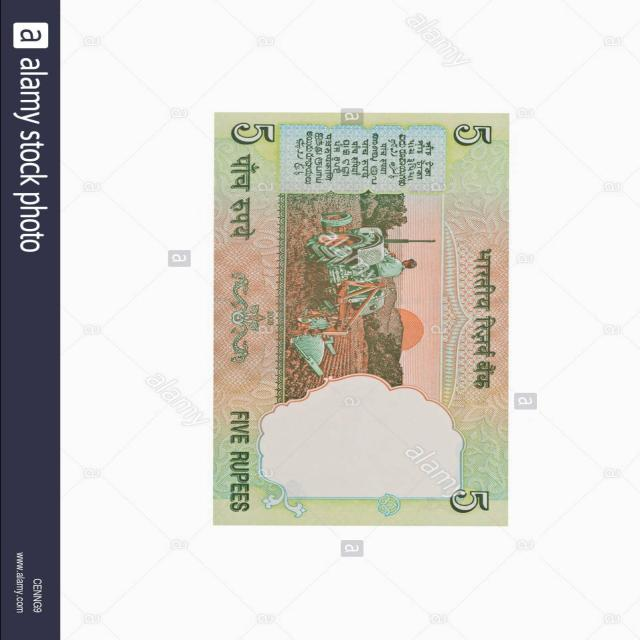5IndianRupees: (222, 109, 500, 524)
